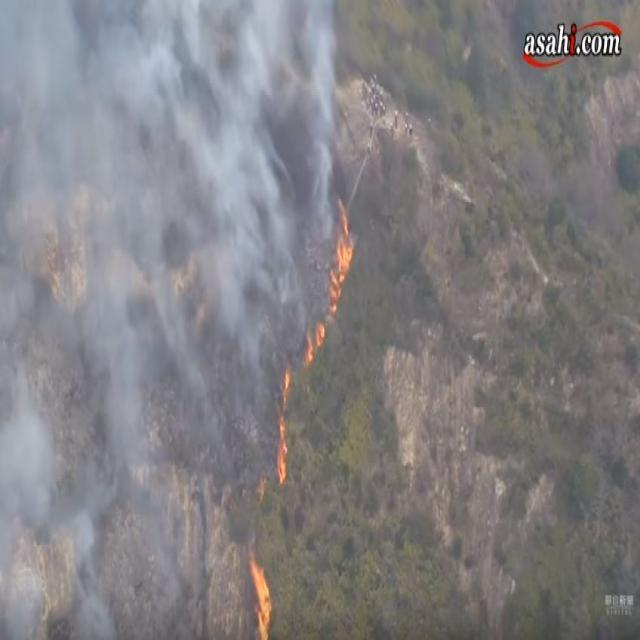Fire: (274, 180, 352, 484), (242, 539, 277, 634), (278, 362, 292, 394), (340, 204, 350, 232), (259, 474, 267, 499), (328, 298, 338, 316), (308, 353, 314, 371)
Smoke: (3, 12, 350, 636), (148, 252, 237, 481), (46, 505, 125, 637), (296, 17, 340, 235)
